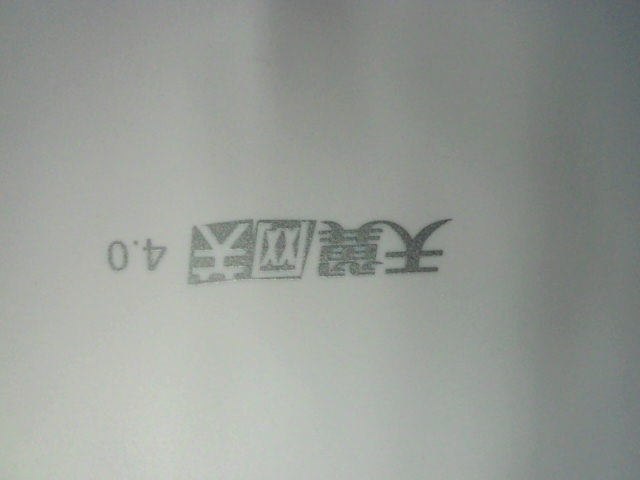BM_TianYiWangGuan: (106, 208, 457, 285)
